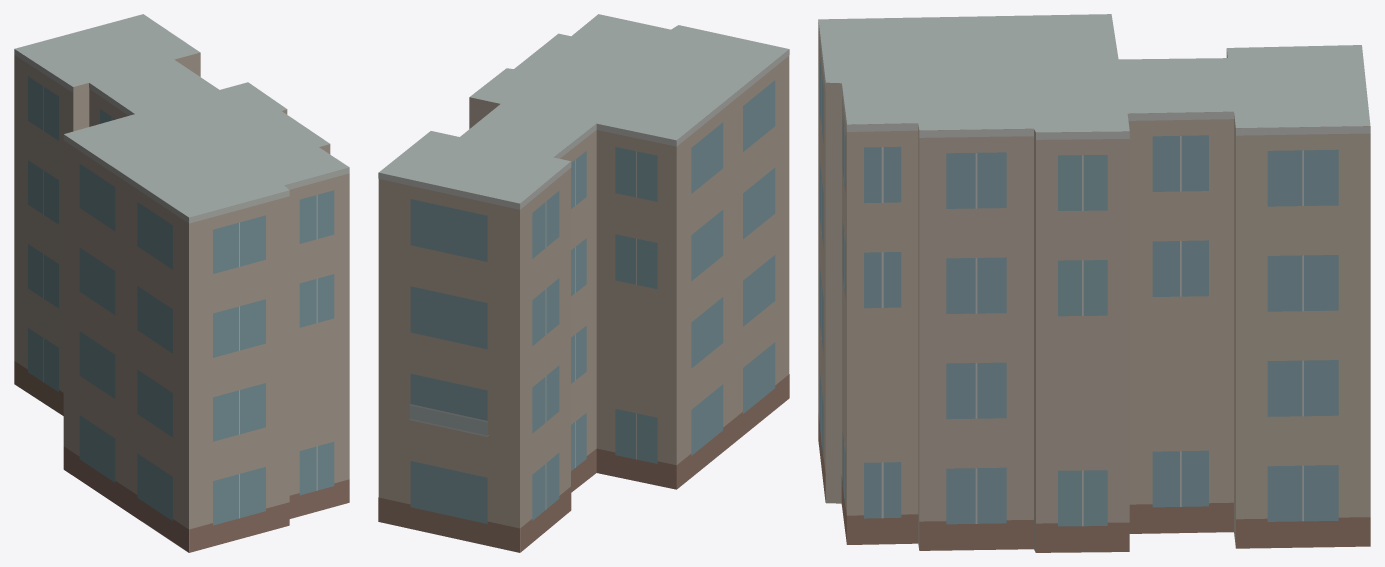
File: survey-upis-32469920.glb
The picture shows the model from 3 angles, left to right: view 1: azimuth 30°, elevation 25°; view 2: azimuth 150°, elevation 25°; view 3: azimuth 270°, elevation 25°; orthographic projection. The views are drawn at different scales.
Visible parts, largest first — view 1: survey-upis-32469920.tmp; view 2: survey-upis-32469920.tmp; view 3: survey-upis-32469920.tmp.
Part boxes in pixels (box(x1,y1,x2,y2)): survey-upis-32469920.tmp: box(14, 14, 349, 552); survey-upis-32469920.tmp: box(378, 14, 789, 552); survey-upis-32469920.tmp: box(818, 14, 1370, 552).
Bounding box in the file's own units: 8.28 × 13.7 × 16.31.
